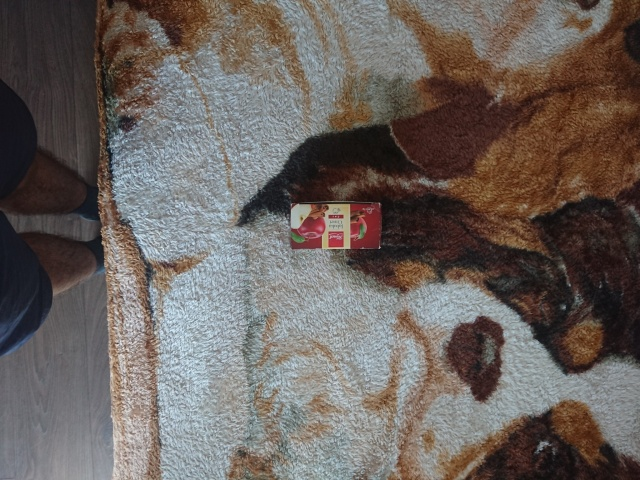Franck Apple Cinnamon Tea 60g: (287, 199, 383, 251)
